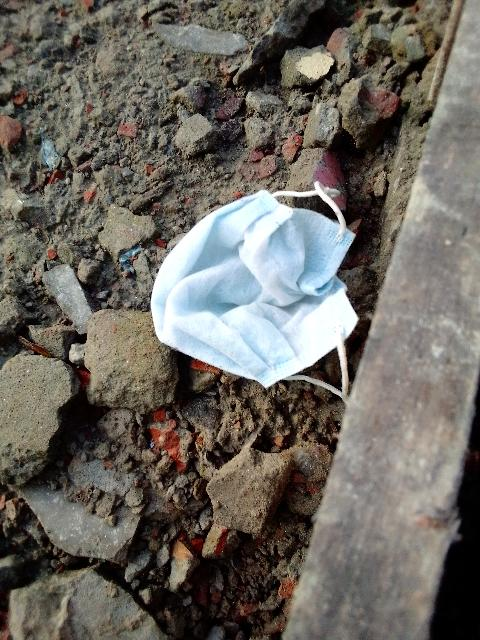mask: (164, 175, 368, 373)
